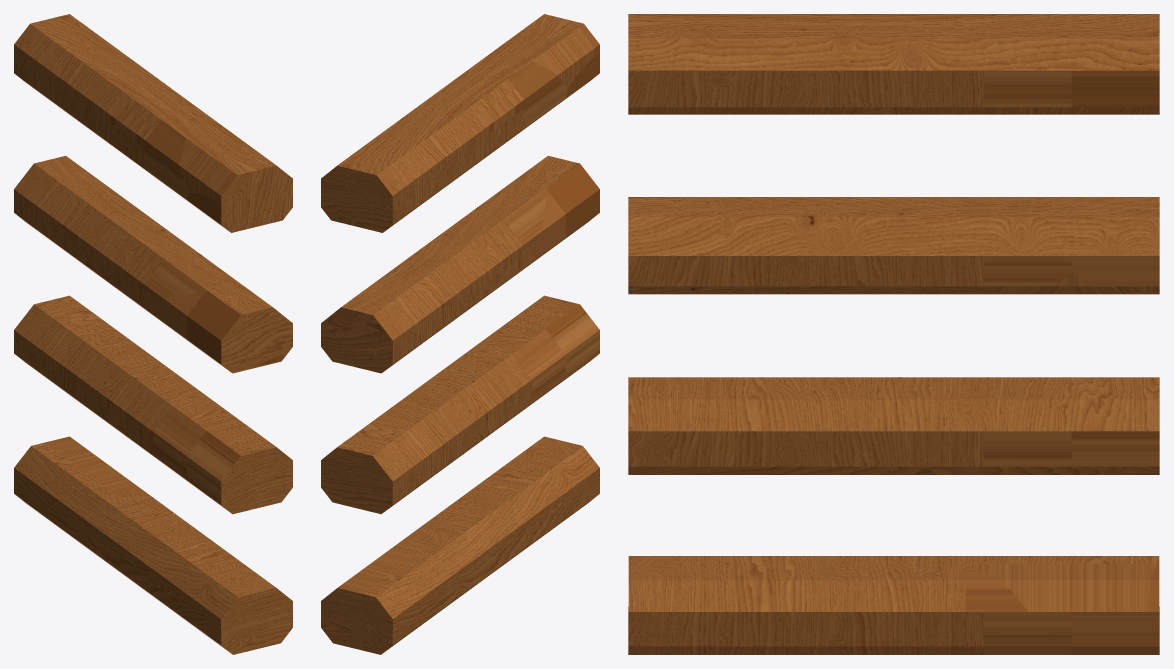
Rendered from WodenFenceSticks.fbx.
3 views of the same model, side by side, from view 1: azimuth 30°, elevation 25°; view 2: azimuth 150°, elevation 25°; view 3: azimuth 270°, elevation 25° (orthographic). The views are drawn at different scales.
Parts seen in each view (by area): view 1: Plane.003; view 2: Plane.003; view 3: Plane.003.
Boxes of the visible parts, x1,y1,x2,y2 form: Plane.003: [14, 14, 292, 654]; Plane.003: [321, 14, 599, 654]; Plane.003: [628, 14, 1159, 654].
Size of the model in its own units: 40 by 255 by 200.
